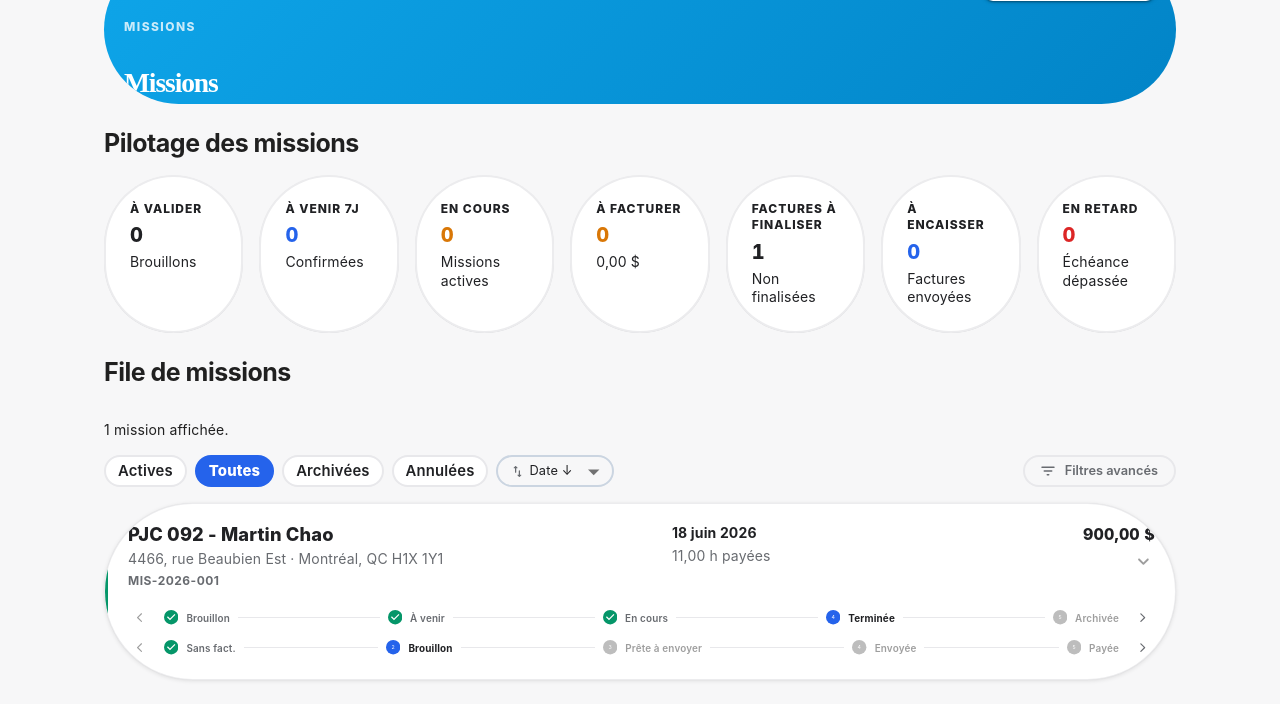
Test: MissionsPage — À faire maintenant CTA ladder › opens invoice draft modal on Prévisualiser la facture click
(page scrolled)
Click the button "MIS-2026-001" at (640, 592), box [105,504,1175,679]
(page scrolled)
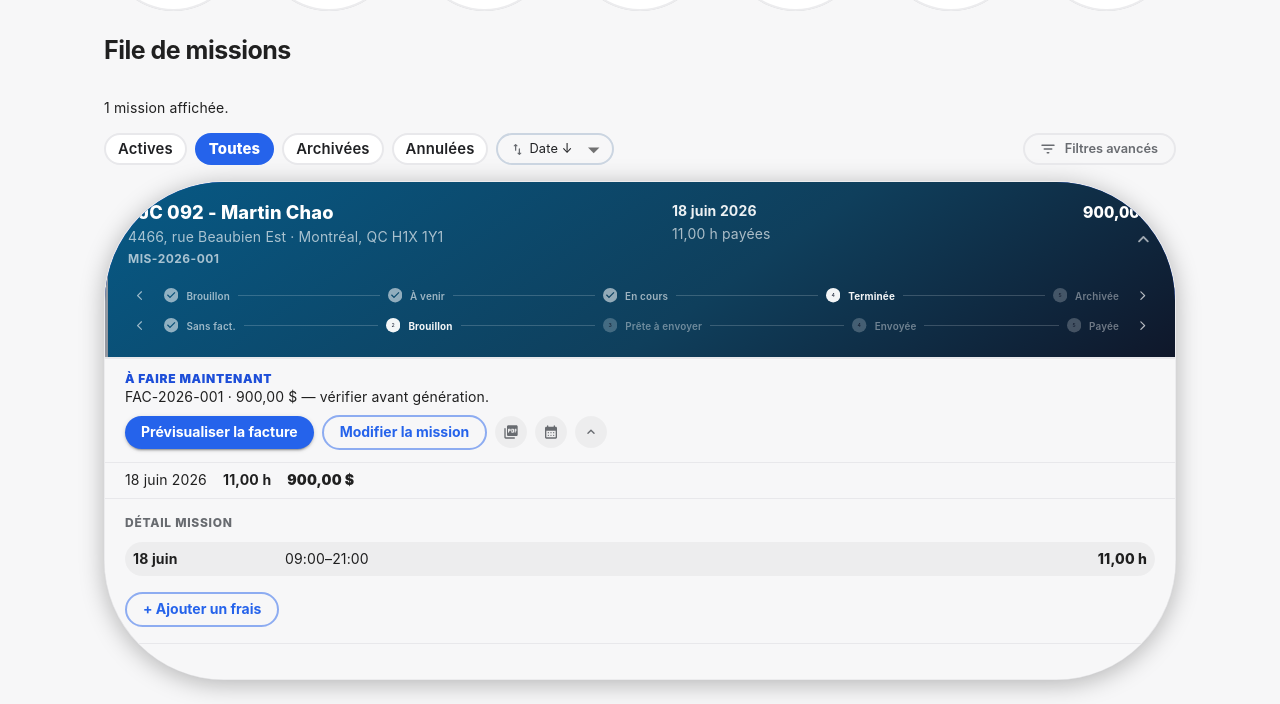
Click the button "Prévisualiser la facture" at (219, 432), box [125,416,314,449]
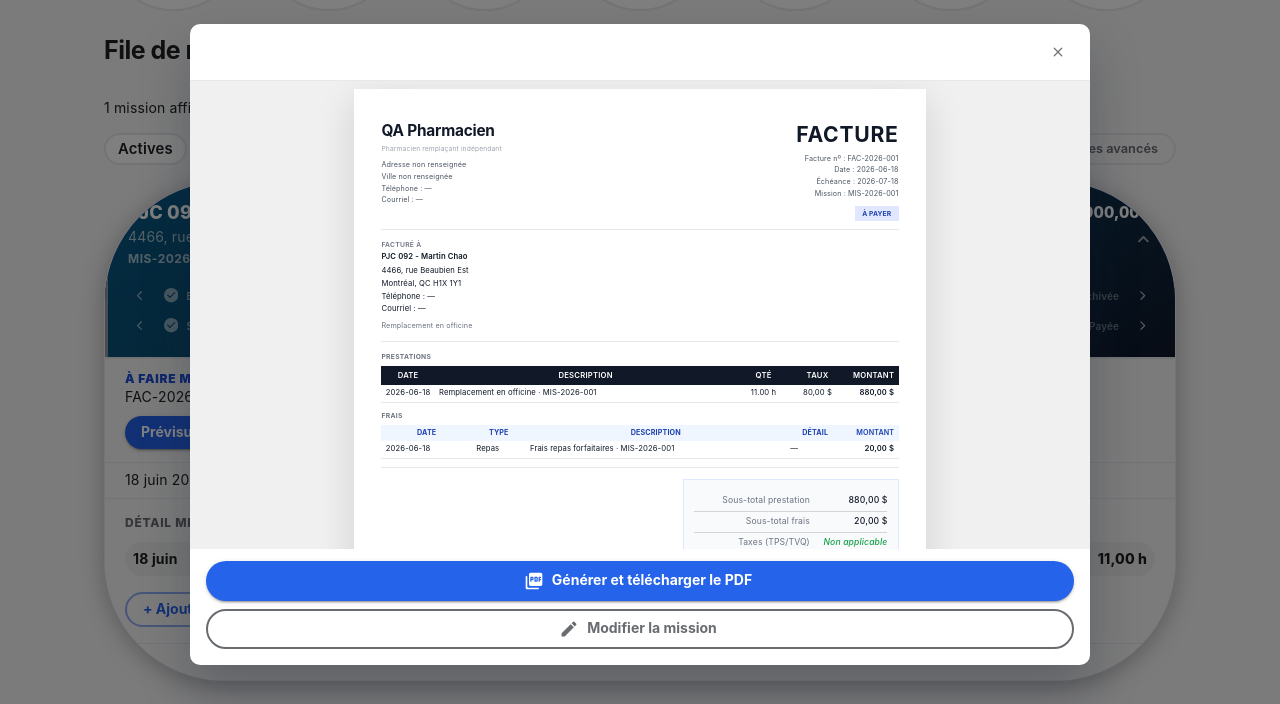
Expected: the dialog named "Facture brouillon" is shown
